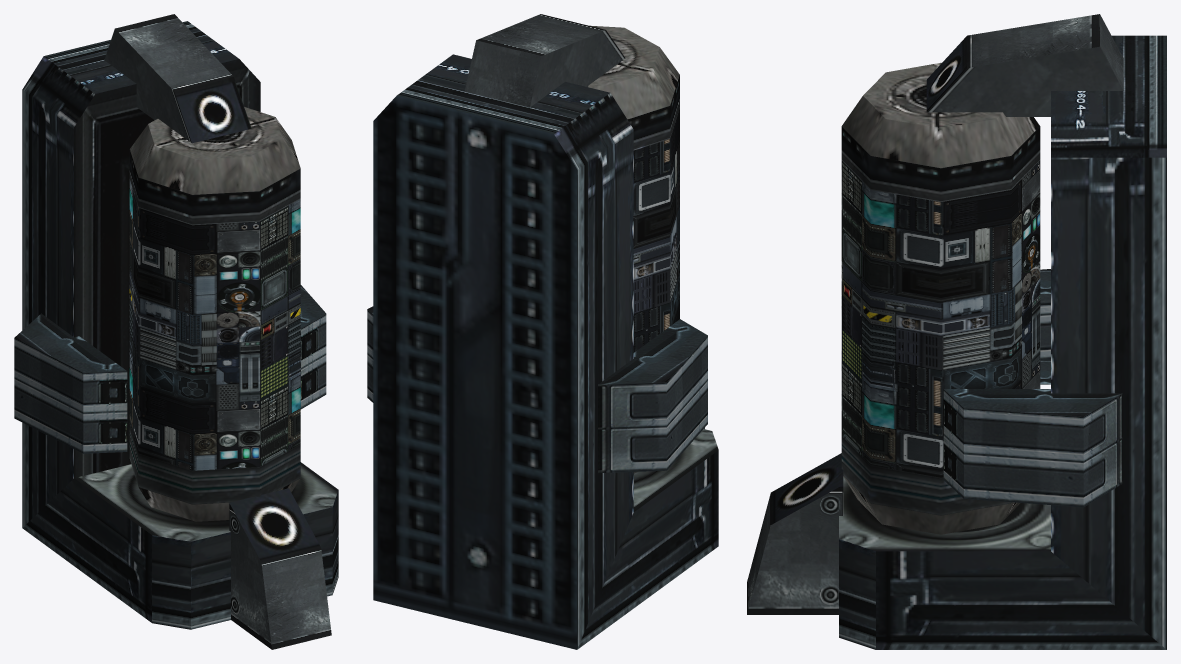
File: Battery_small_02.FBX
3 views of the same model, side by side, from view 1: azimuth 30°, elevation 25°; view 2: azimuth 150°, elevation 25°; view 3: azimuth 270°, elevation 25° (orthographic). The views are drawn at different scales.
Parts seen in each view (by area): view 1: Battery_small_02, Liquid; view 2: Battery_small_02, Liquid; view 3: Battery_small_02, Liquid.
Part boxes in pixels (box(x1,y1,x2,y2)): Battery_small_02: box(14, 14, 338, 649); Liquid: box(129, 180, 300, 470); Battery_small_02: box(367, 14, 718, 649); Liquid: box(633, 108, 679, 352); Battery_small_02: box(747, 14, 1166, 649); Liquid: box(841, 160, 1040, 477).
Size of the model in its own units: 72.47 by 128 by 85.67.
